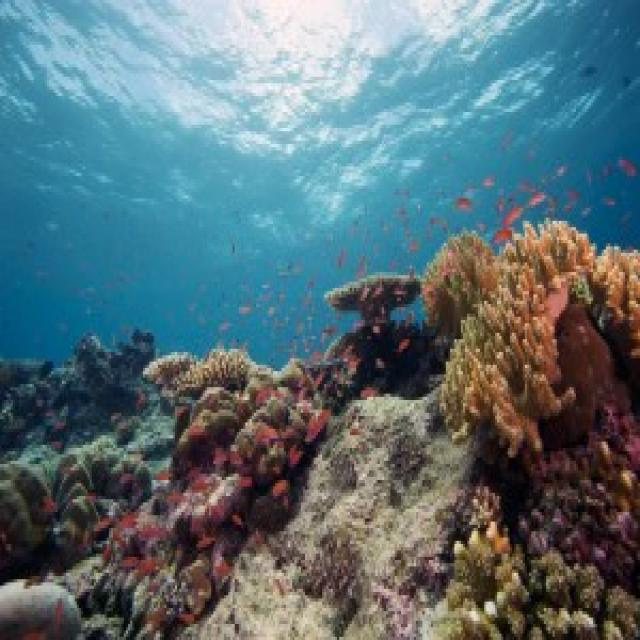Healthy: (187, 395, 472, 638), (449, 385, 639, 638), (163, 366, 327, 615), (443, 222, 594, 455), (310, 273, 447, 407), (423, 235, 496, 337), (590, 247, 639, 379), (148, 350, 255, 395)
